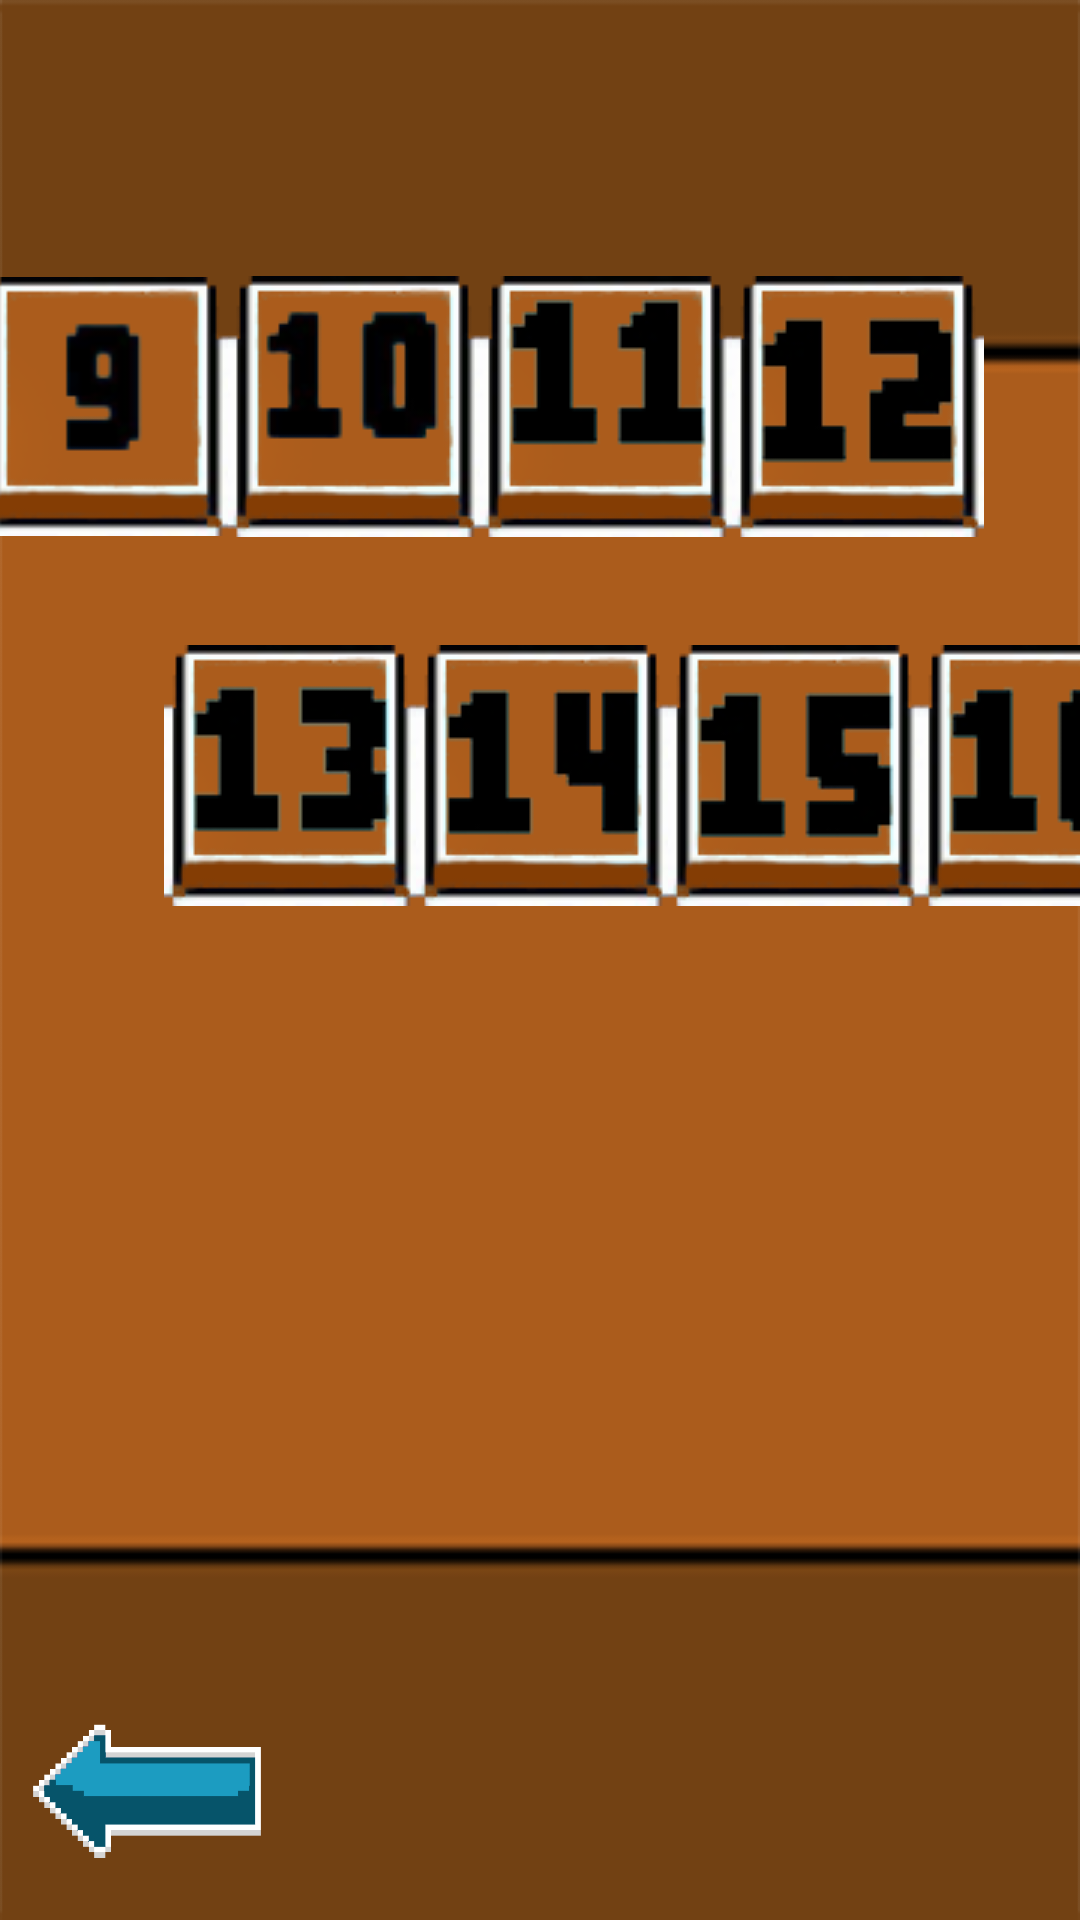

Screen size 1080×1920. Icon name, then its center in pixels as point (x, y):
arrowprev: point (147, 1791)
